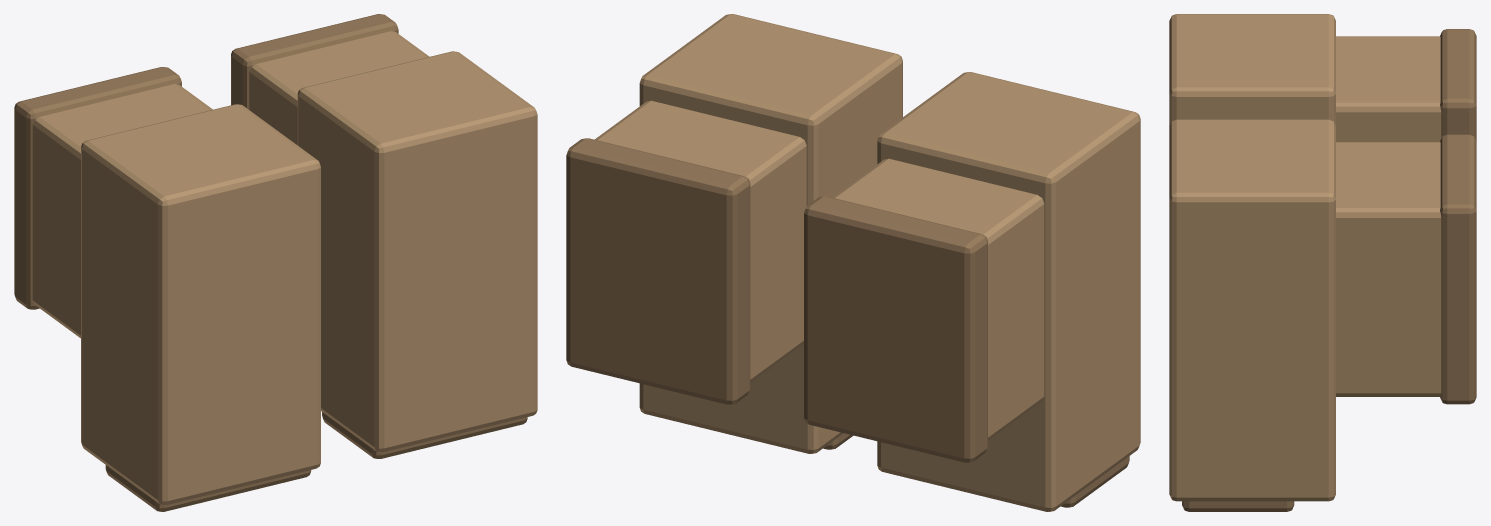
Rendered from wood_boots_held.gltf.
3 renders of one model, left to right at view 1: azimuth 30°, elevation 25°; view 2: azimuth 150°, elevation 25°; view 3: azimuth 270°, elevation 25°, orthographic. The views are drawn at different scales.
Visible parts, largest first — view 1: armor_wood_boots_held; view 2: armor_wood_boots_held; view 3: armor_wood_boots_held.
Boxes of the visible parts, x1,y1,x2,y2 form: armor_wood_boots_held: (14,14,537,511); armor_wood_boots_held: (566,14,1140,511); armor_wood_boots_held: (1169,14,1476,511).
Size of the model in its own units: 0.16 by 0.1295 by 0.1124.
